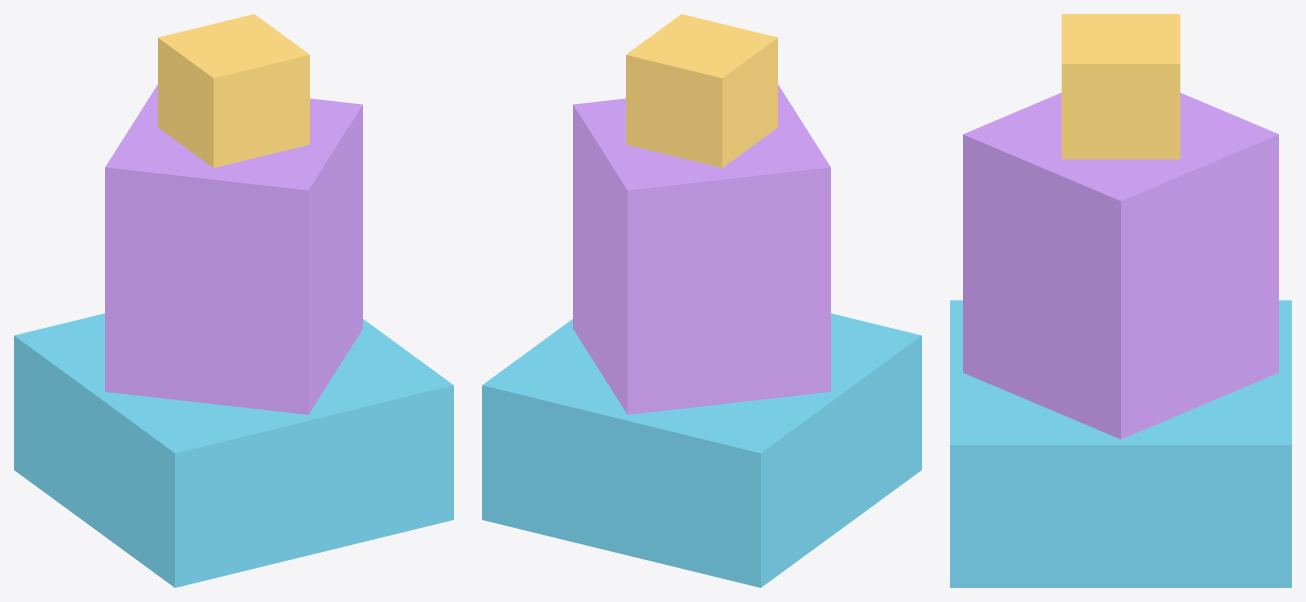
The model's file is showoff.glb.
3 renders of one model, left to right at view 1: azimuth 30°, elevation 25°; view 2: azimuth 150°, elevation 25°; view 3: azimuth 270°, elevation 25°, orthographic. The views are drawn at different scales.
Size of the model in its own units: 2.6 by 4 by 2.6.
